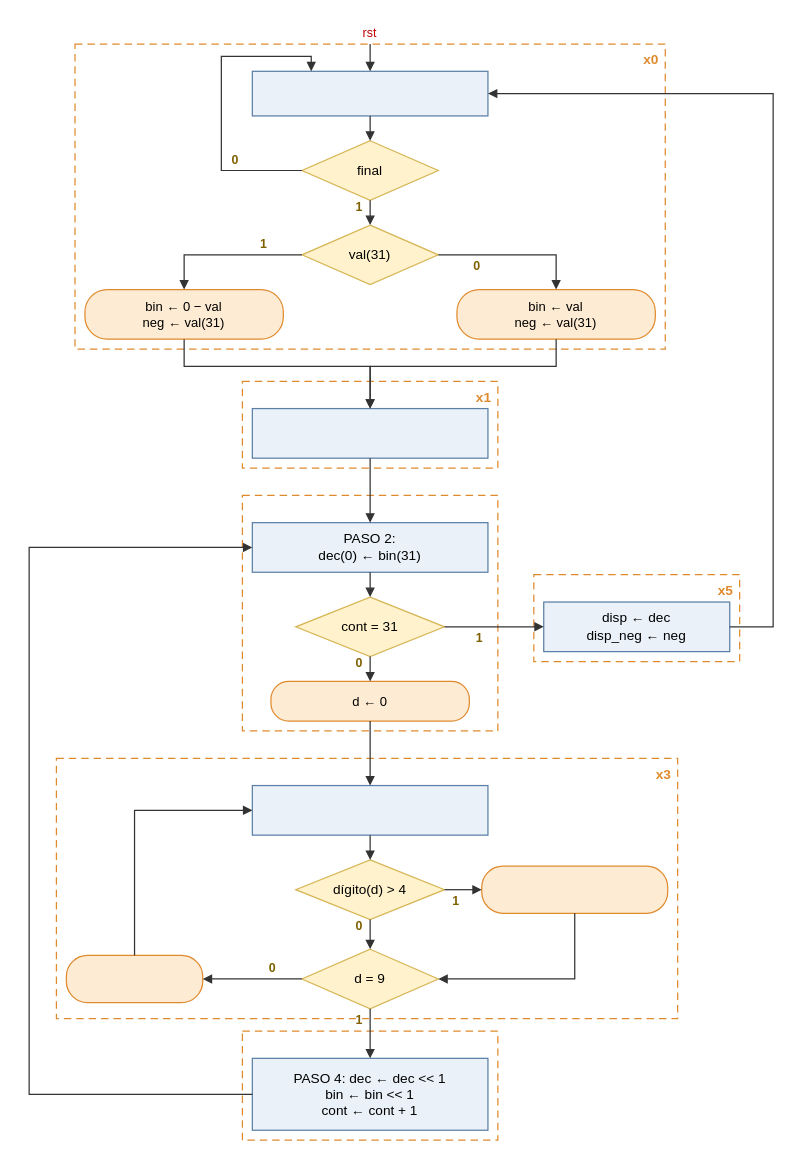
The diagram is 804 pixels wide and 1162 high, and some of its shapes have lost their labels. Here are the shapes that lost their labels. From the top down, the box of each, then its label:
(251, 70, 488, 116): espera final
(251, 407, 488, 458): PASO 1: dec ← 0 ; cont ← 0
(241, 494, 498, 731): x2
(251, 784, 488, 835): PASO 3: revisa el dígito d de dec
(480, 865, 668, 913): dígito(d) ← dígito(d) + 3
(65, 954, 203, 1003): d ← d + 1
(241, 1030, 498, 1140): x4
